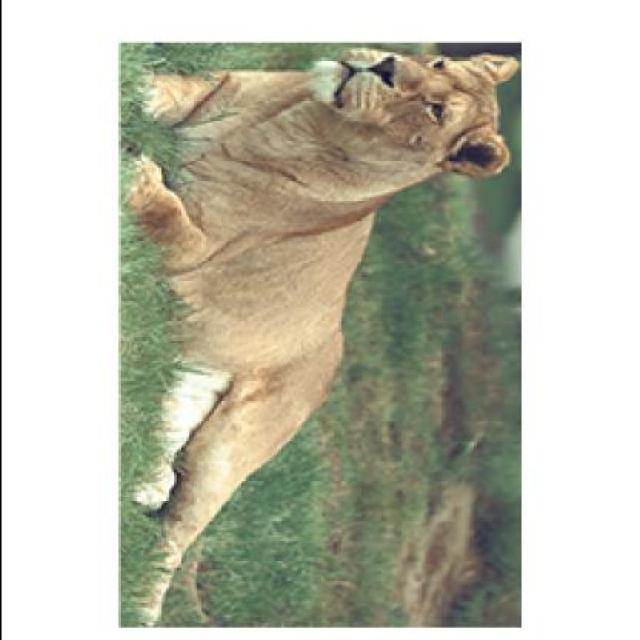Lion: (79, 32, 543, 636)
